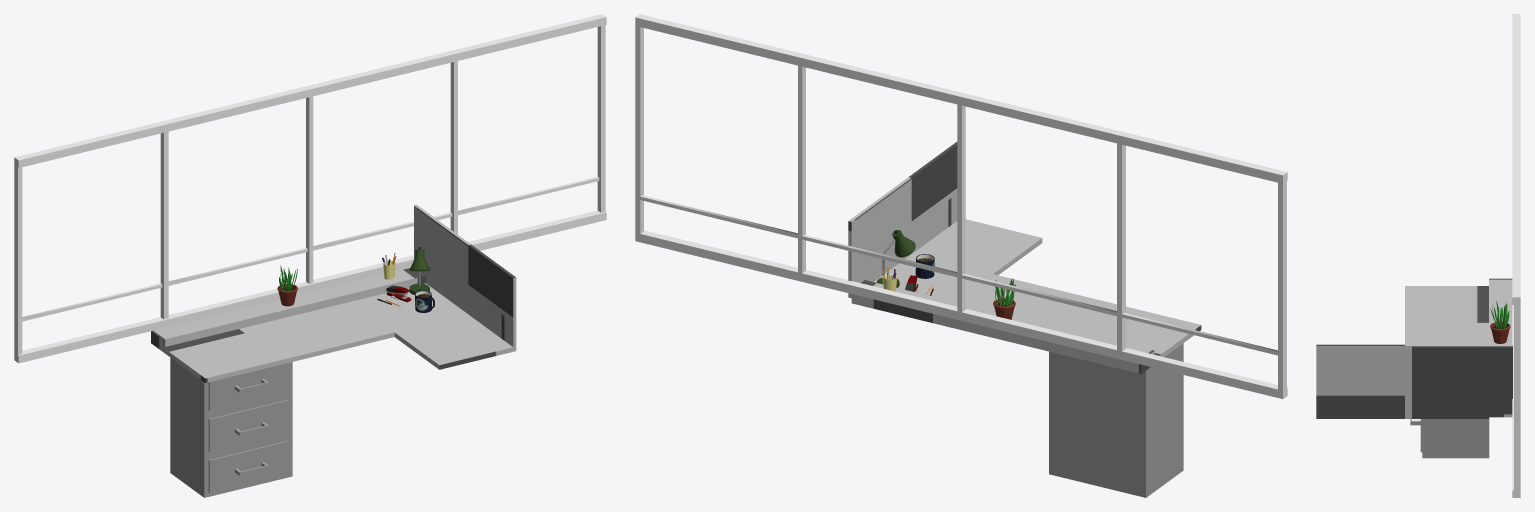
The model's file is DeskSetup_title_v1.fbx.
The picture shows the model from 3 angles, left to right: view 1: azimuth 30°, elevation 25°; view 2: azimuth 150°, elevation 25°; view 3: azimuth 270°, elevation 25°; orthographic projection. The views are drawn at different scales.
Parts seen in each view (by area): view 1: Table, Window, Cabinet; view 2: Window, Table, Cabinet; view 3: Table, Window, Cabinet, plant, pot.
Part boxes in pixels (box(x1,y1,x2,y2)): Table: box(151, 204, 516, 382); Window: box(14, 14, 606, 363); Cabinet: box(170, 357, 292, 497); Window: box(635, 14, 1287, 398); Table: box(848, 142, 1201, 373); Cabinet: box(1049, 343, 1183, 497); Table: box(1316, 278, 1512, 418); Window: box(1512, 14, 1520, 497); Cabinet: box(1410, 417, 1489, 458); plant: box(1490, 301, 1509, 329); pot: box(1490, 322, 1510, 343).
Size of the model in its own units: 2000 by 1100 by 609.
